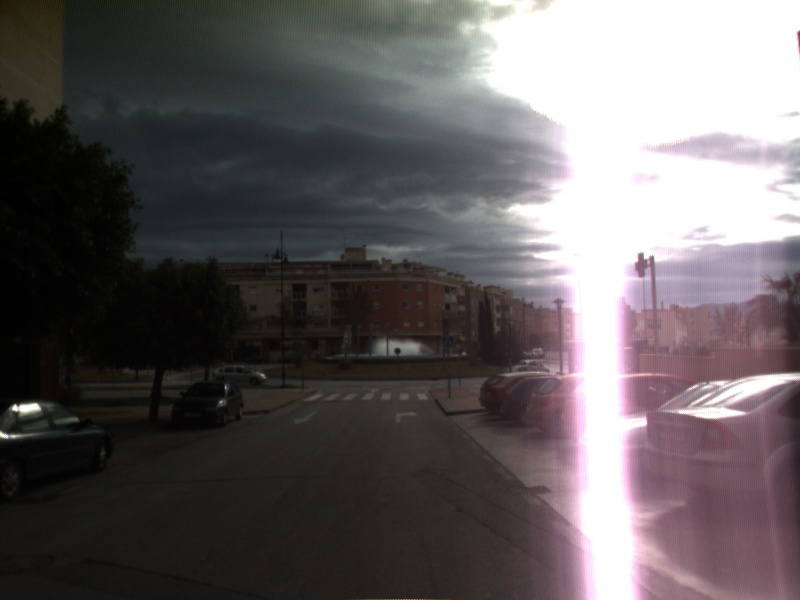RIGHT: (393, 409, 420, 425)
